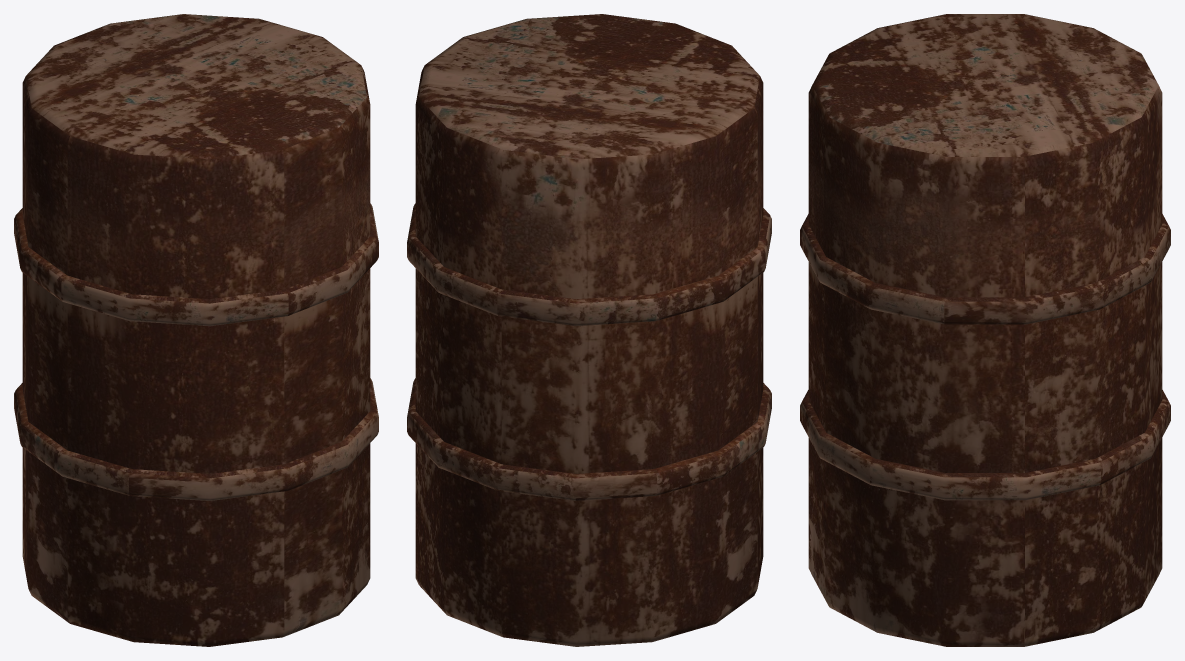
File: prop_barrel.glb
The picture shows the model from 3 angles, left to right: view 1: azimuth 30°, elevation 25°; view 2: azimuth 150°, elevation 25°; view 3: azimuth 270°, elevation 25°; orthographic projection.
Parts seen in each view (by area): view 1: Drum, Rib1, Rib2; view 2: Drum, Rib1, Rib2; view 3: Drum, Rib1, Rib2.
Boxes of the visible parts, x1=… form: Drum: x1=22, y1=14, x2=370, y2=646; Rib1: x1=14, y1=378, x2=378, y2=500; Rib2: x1=14, y1=203, x2=378, y2=326; Drum: x1=415, y1=14, x2=763, y2=646; Rib1: x1=407, y1=378, x2=771, y2=500; Rib2: x1=407, y1=203, x2=771, y2=326; Drum: x1=808, y1=14, x2=1162, y2=646; Rib1: x1=800, y1=390, x2=1170, y2=500; Rib2: x1=800, y1=214, x2=1170, y2=324.
Size of the model in its own units: 0.6337 by 0.96 by 0.65.
Materials: 1 (1 with a texture image).
